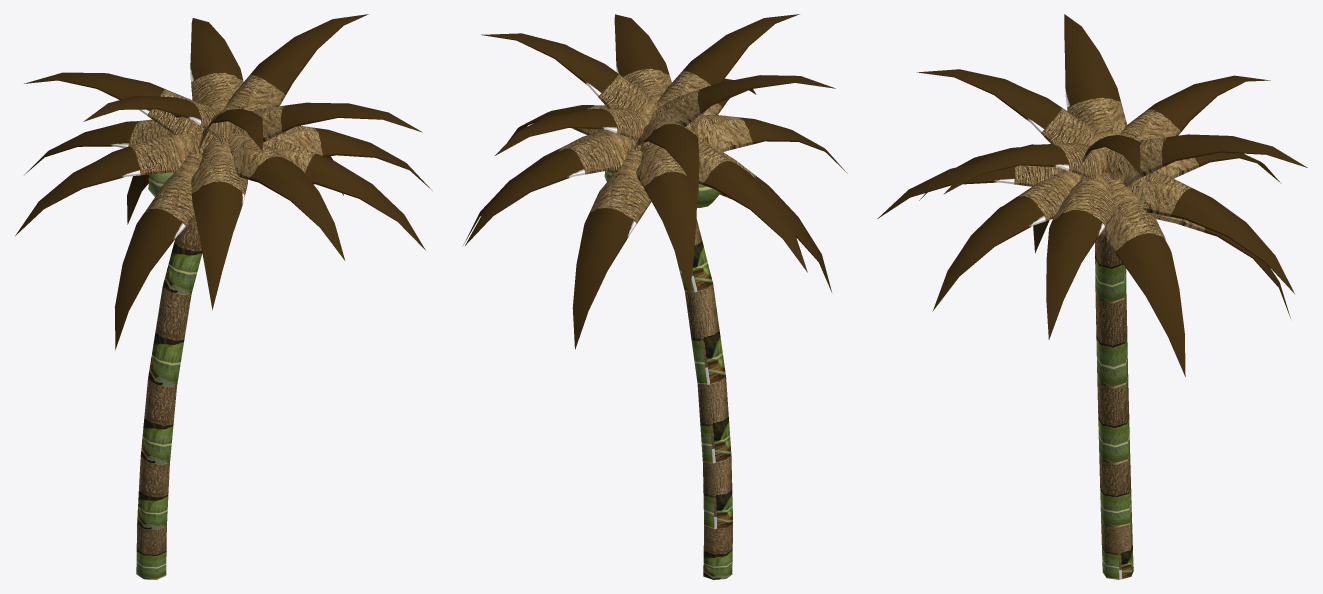
Rendered from palmier.DAE.
3 views of the same model, side by side, from view 1: azimuth 30°, elevation 25°; view 2: azimuth 150°, elevation 25°; view 3: azimuth 270°, elevation 25° (orthographic). The views are drawn at different scales.
Visible parts, largest first — view 1: Objet18_PIVOT; view 2: Objet18_PIVOT; view 3: Objet18_PIVOT.
Part boxes in pixels (left/top/right/bottom): Objet18_PIVOT: left=15, top=14, right=432, bottom=579; Objet18_PIVOT: left=462, top=14, right=847, bottom=579; Objet18_PIVOT: left=877, top=14, right=1307, bottom=579.
Bounding box in the file's own units: 78.78 × 78.52 × 104.
